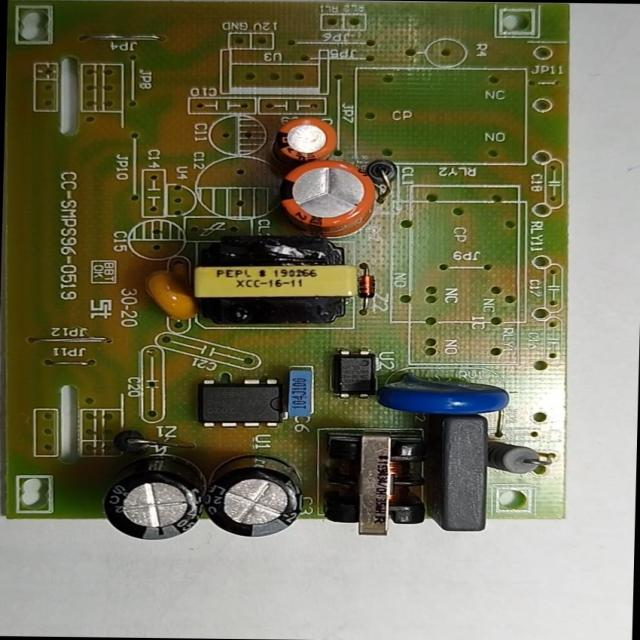Cap1: (272, 154, 384, 240)
Cap2: (270, 114, 342, 170)
Cap3: (199, 456, 306, 540)
Cap4: (91, 454, 208, 546)
MOSFET: (192, 374, 292, 431)
Mov: (378, 368, 514, 421)
Resistor: (486, 434, 556, 479)
Transformer: (186, 233, 361, 328), (312, 426, 433, 540)
